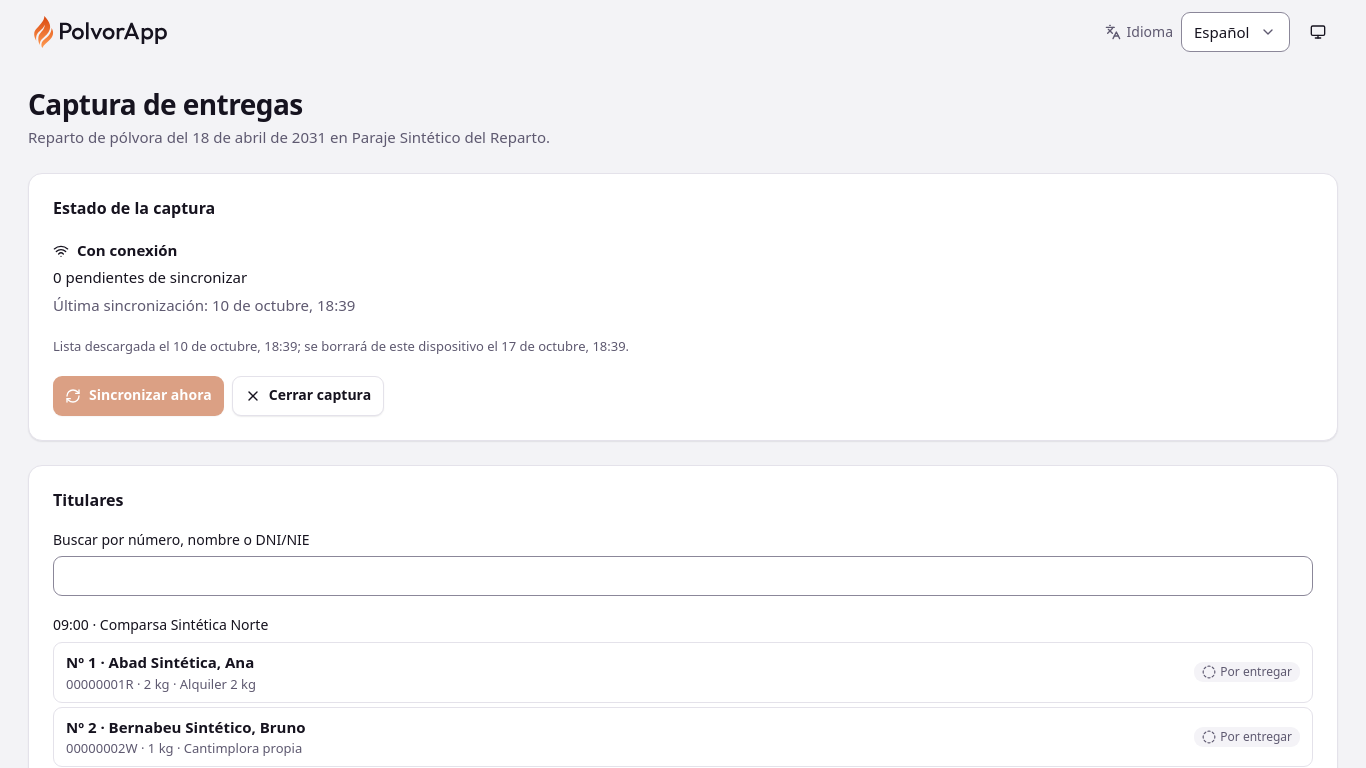
Test: Capture screen (spec: Handover screens) › finds holders by number, name or DNI/NIE
The image size is (1366, 768).
In the search field labelled "Buscar por número, nombre o DNI/NIE": {"x": 683, "y": 576} 53,556 -> 1313,596, type "00000003a"
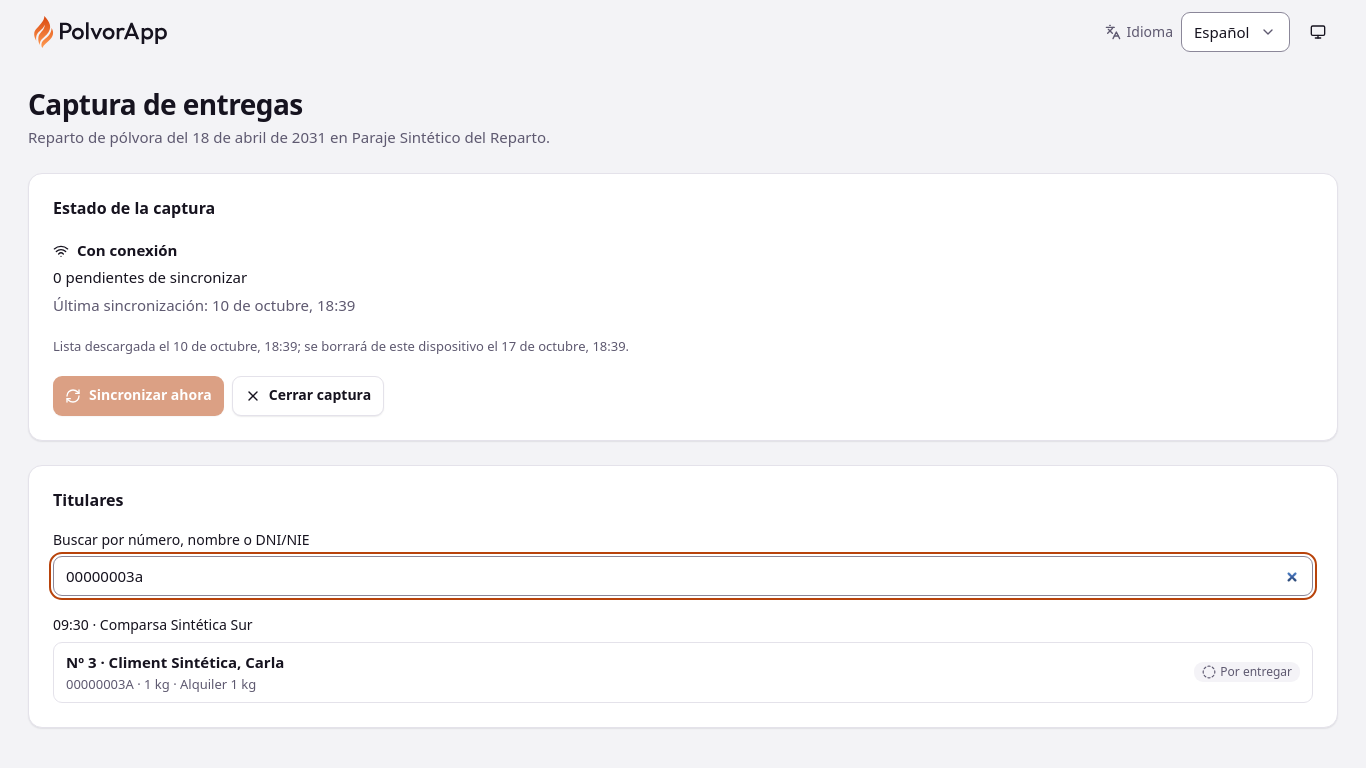
expect the button "Nº 3 · Climent Sintética" is shown: met, box 53,642 -> 1313,702
expect the button "Nº 1 ·" is gone: met
